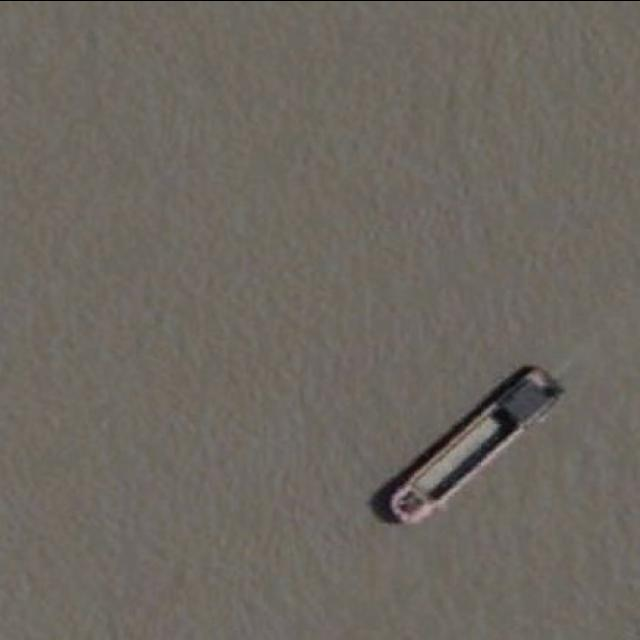ship: (379, 364, 565, 530)
